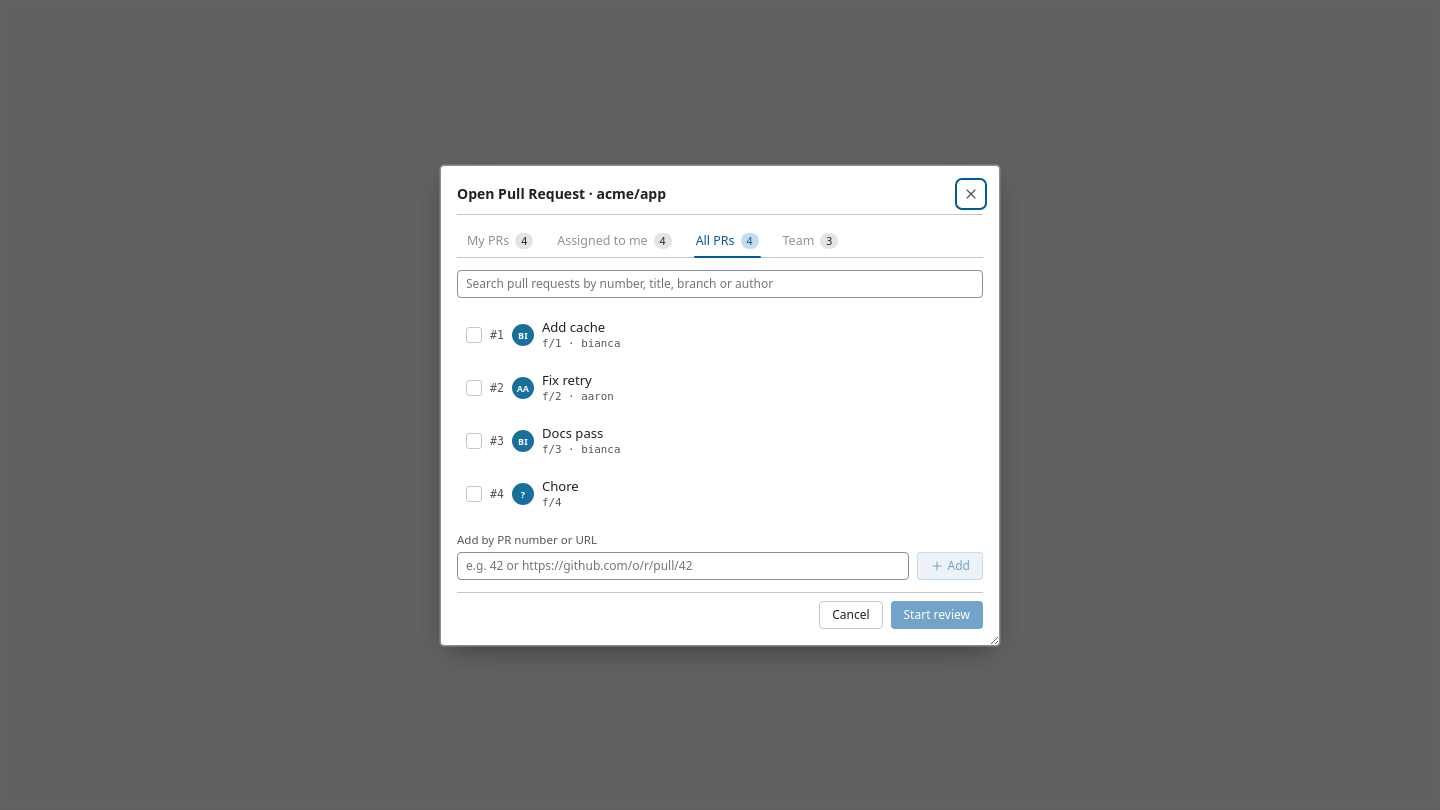
Test: PrReviewPicker selection › groups open PRs by author in the Team tab
Click the tab "Team 3": {"x": 810, "y": 240} left=772, top=226, right=848, bottom=254
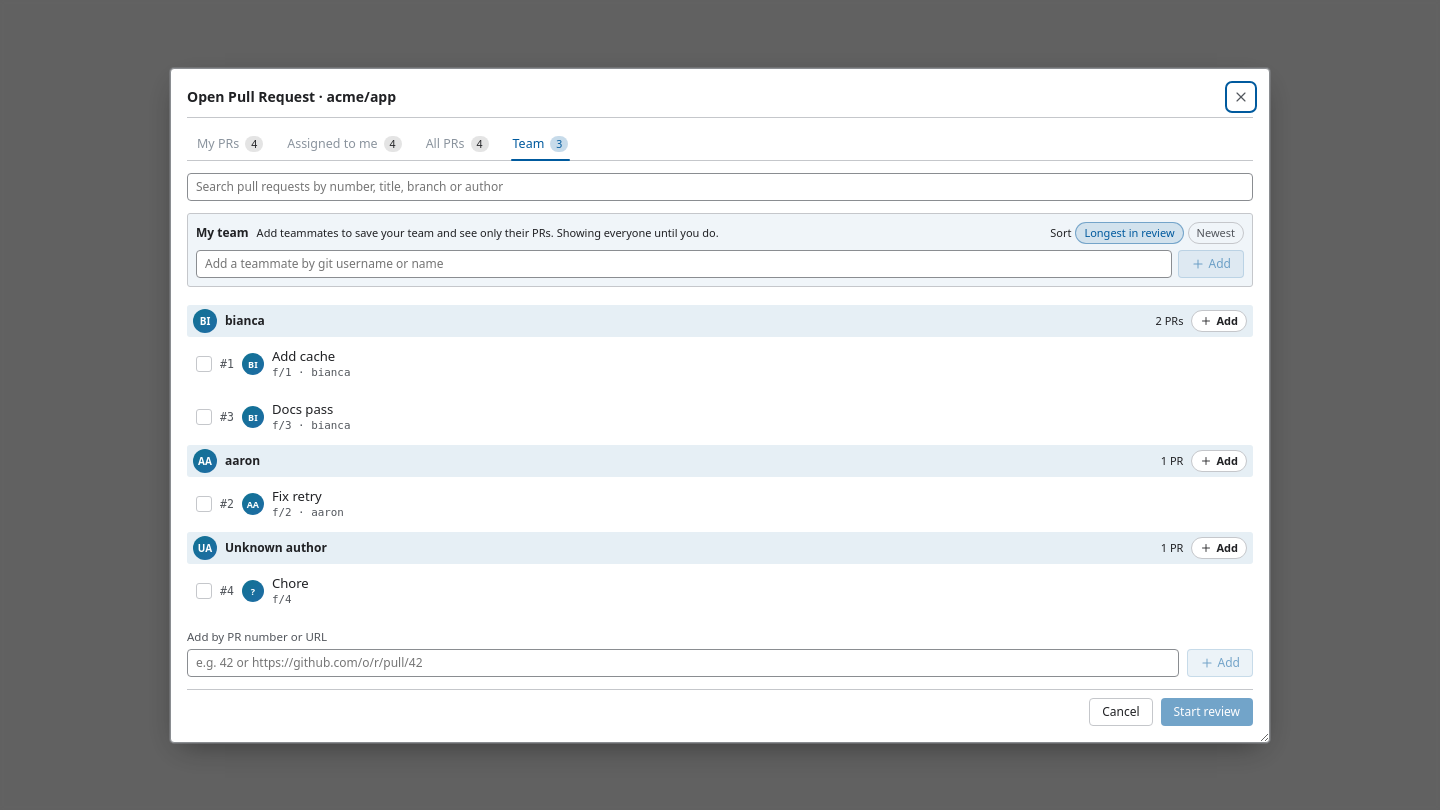
Check: the text "aaron" is shown, box left=225, top=452, right=260, bottom=468
Check: the text "bianca" is shown, box left=225, top=312, right=265, bottom=328
Check: the text "Unknown author" is shown, box left=225, top=538, right=327, bottom=556
